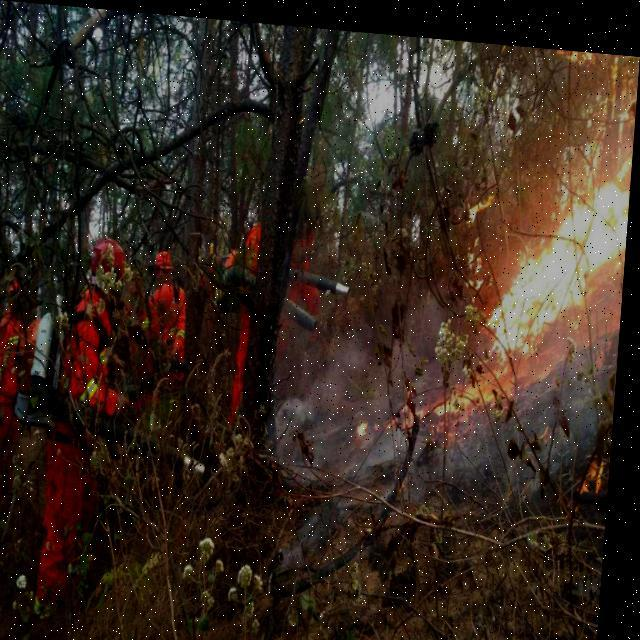Fire: (454, 137, 634, 436)
